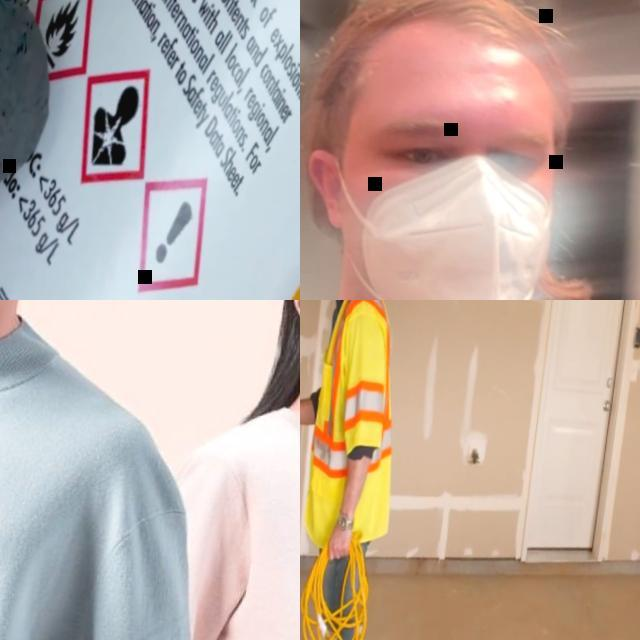vest: (301, 300, 416, 510)
